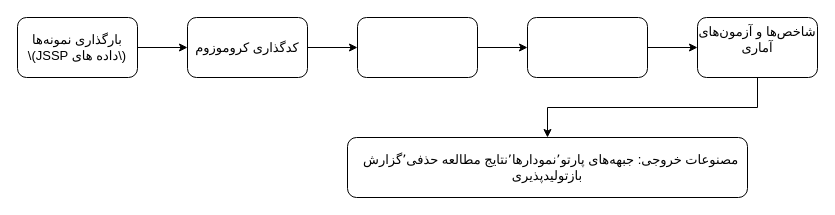
Image size: 835x215. Some labels were removed from this diagram. The shapes that lost their labels are listed below. From the top down, each one's centre as x and y in pixels, then its label:
the point at 417,47: موتور تکاملی \(NSGA-II + UCB1\)
the point at 587,47: YAFS شبیه‌ساز \(لبه٬مه٬ابر\)
